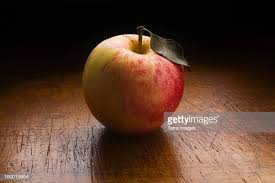apple: (81, 35, 187, 133)
